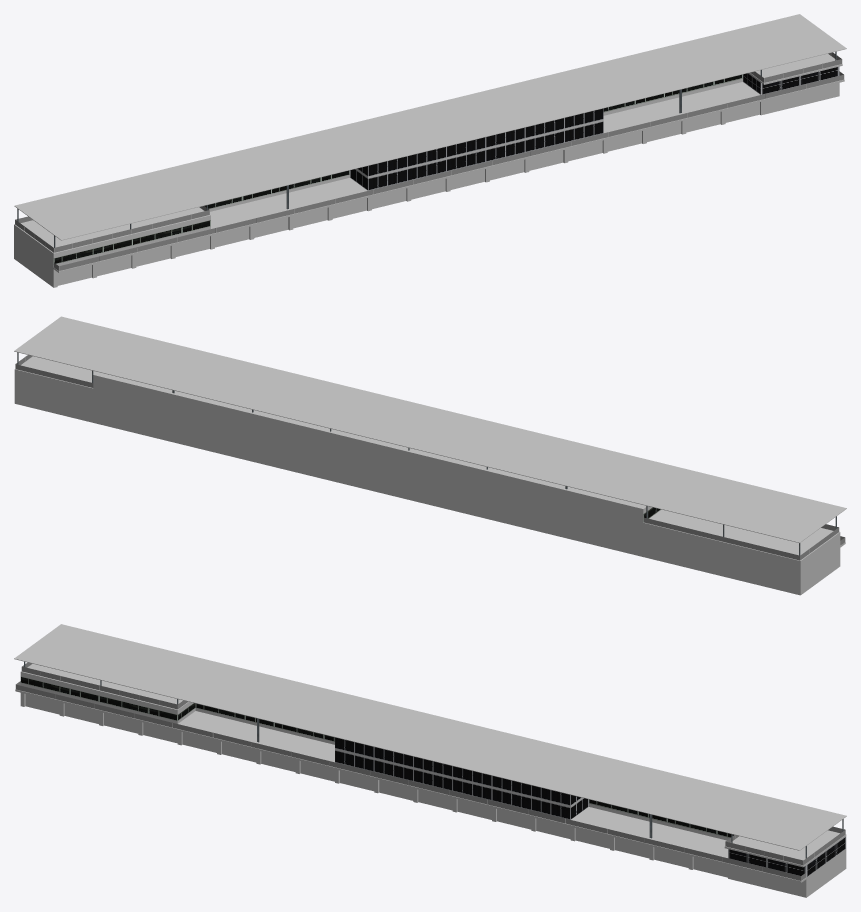
File: Building-Grid-11.fbx
The picture shows the model from 3 angles, top to bottom: view 1: azimuth 30°, elevation 25°; view 2: azimuth 150°, elevation 25°; view 3: azimuth 330°, elevation 25°; orthographic projection.
Visible parts, largest first — view 1: Building-Grid-11; view 2: Building-Grid-11; view 3: Building-Grid-11.
Part boxes in pixels (x1,y1,x2,y2): Building-Grid-11: (14, 14, 846, 287); Building-Grid-11: (14, 316, 846, 595); Building-Grid-11: (14, 624, 846, 897).
Bounding box in the file's own units: 20010 × 1285 × 2079.
